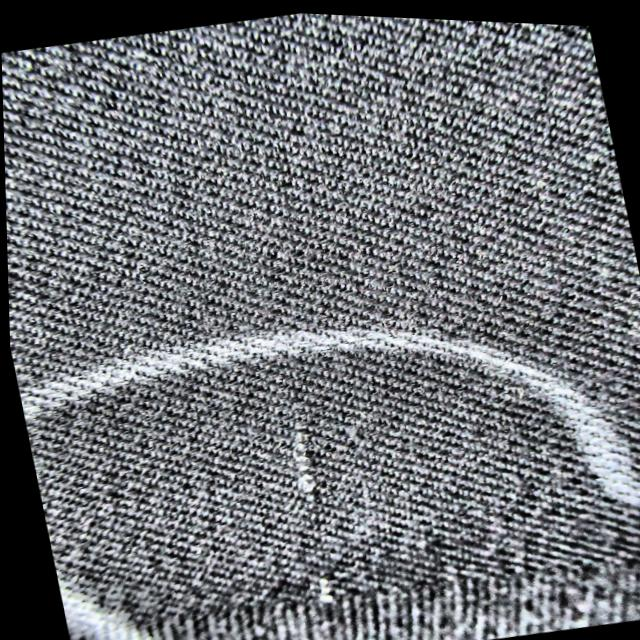Hole: (288, 428, 326, 597)
